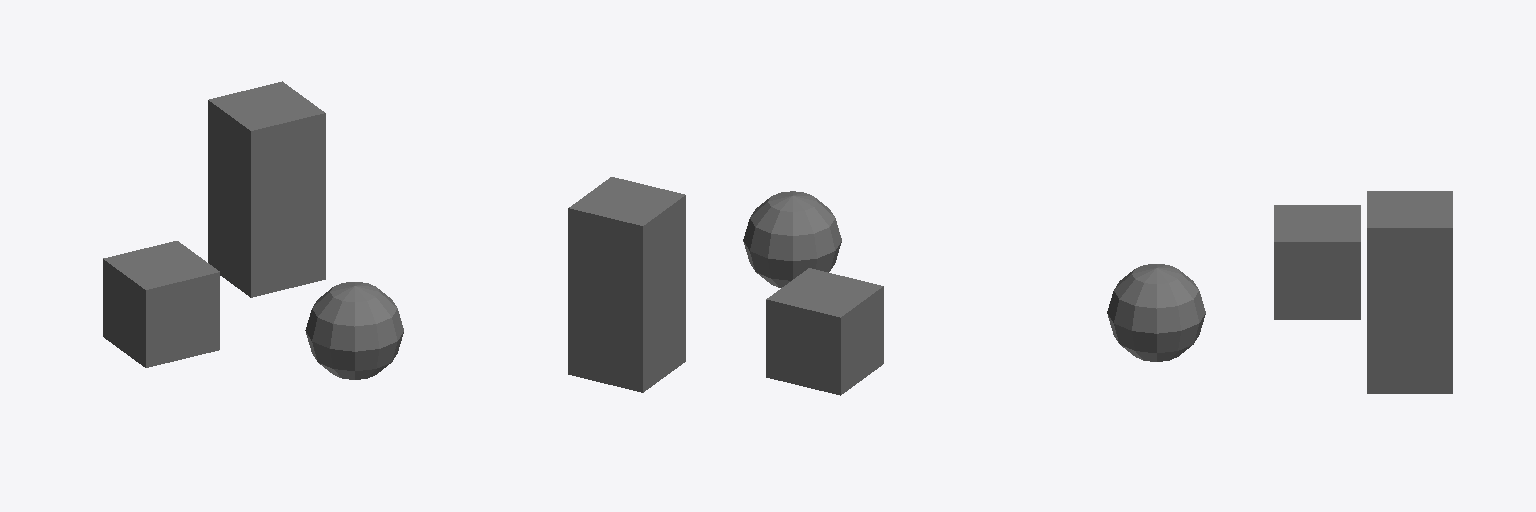
The model's file is models.obj.
3 renders of one model, left to right at view 1: azimuth 30°, elevation 25°; view 2: azimuth 150°, elevation 25°; view 3: azimuth 270°, elevation 25°, orthographic.
Visible parts, largest first — view 1: pCube2, pCube1, pSphere1; view 2: pCube2, pCube1, pSphere1; view 3: pCube2, pCube1, pSphere1.
Part boxes in pixels (x1,y1,x2,y2): pCube2: (208,81,325,297); pCube1: (103,241,219,367); pSphere1: (305,282,403,379); pCube2: (568,177,685,392); pCube1: (766,268,883,395); pSphere1: (743,191,841,287); pCube2: (1367,191,1452,393); pCube1: (1274,205,1360,319); pSphere1: (1107,264,1205,361).
Size of the model in its own units: 5.27 by 3.73 by 6.99.